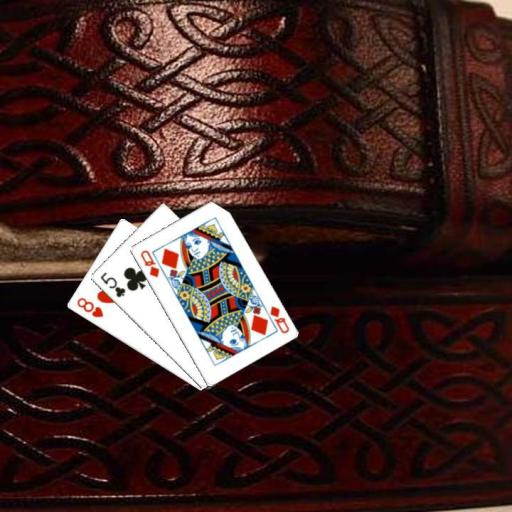5C: (97, 269, 127, 299)
8H: (73, 295, 105, 320)
QD: (137, 247, 161, 279), (267, 303, 290, 335)
